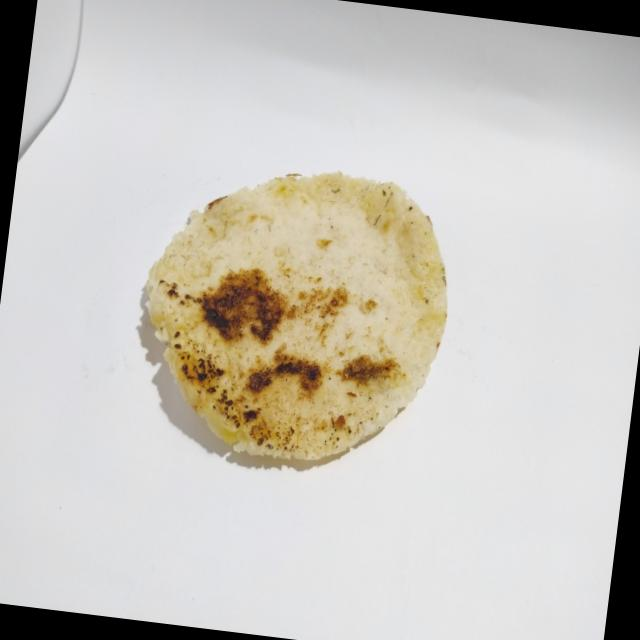Mbeju: (108, 138, 474, 498)
